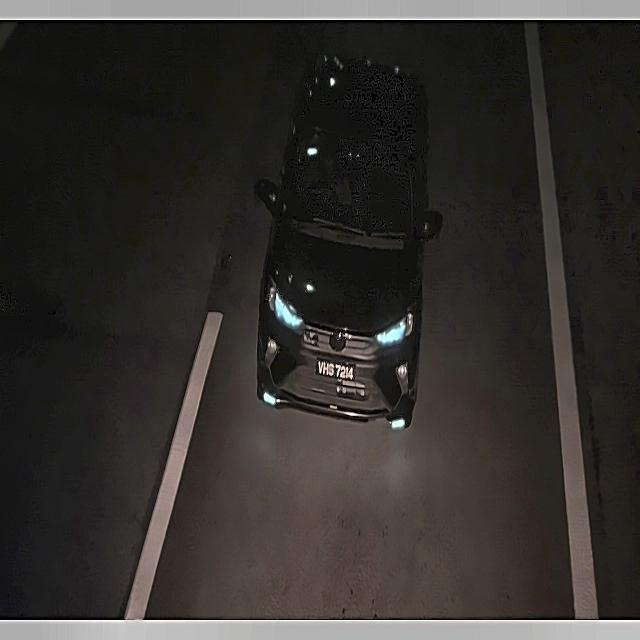car: (314, 352, 359, 388)
